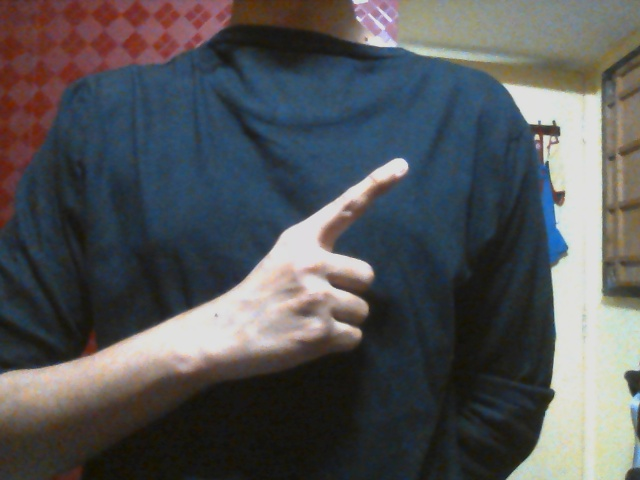I: (231, 155, 410, 378)
